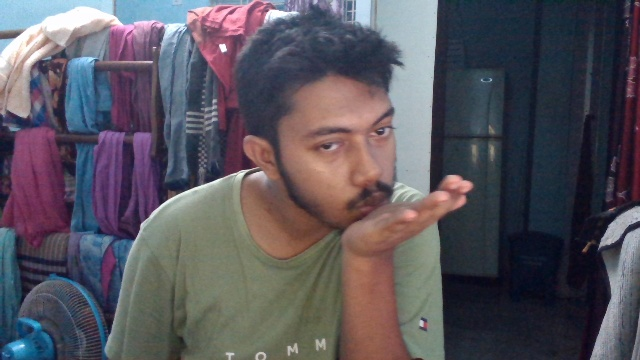iloveu: (218, 11, 473, 260)
